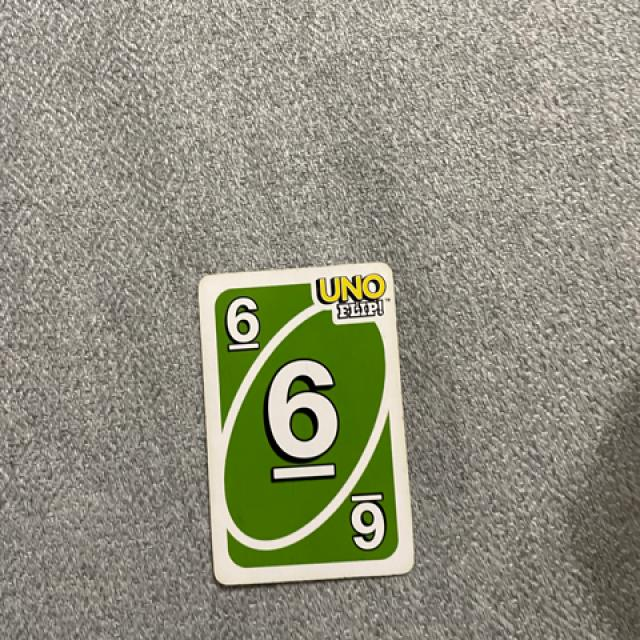lgreen-6: (209, 281, 274, 358)
